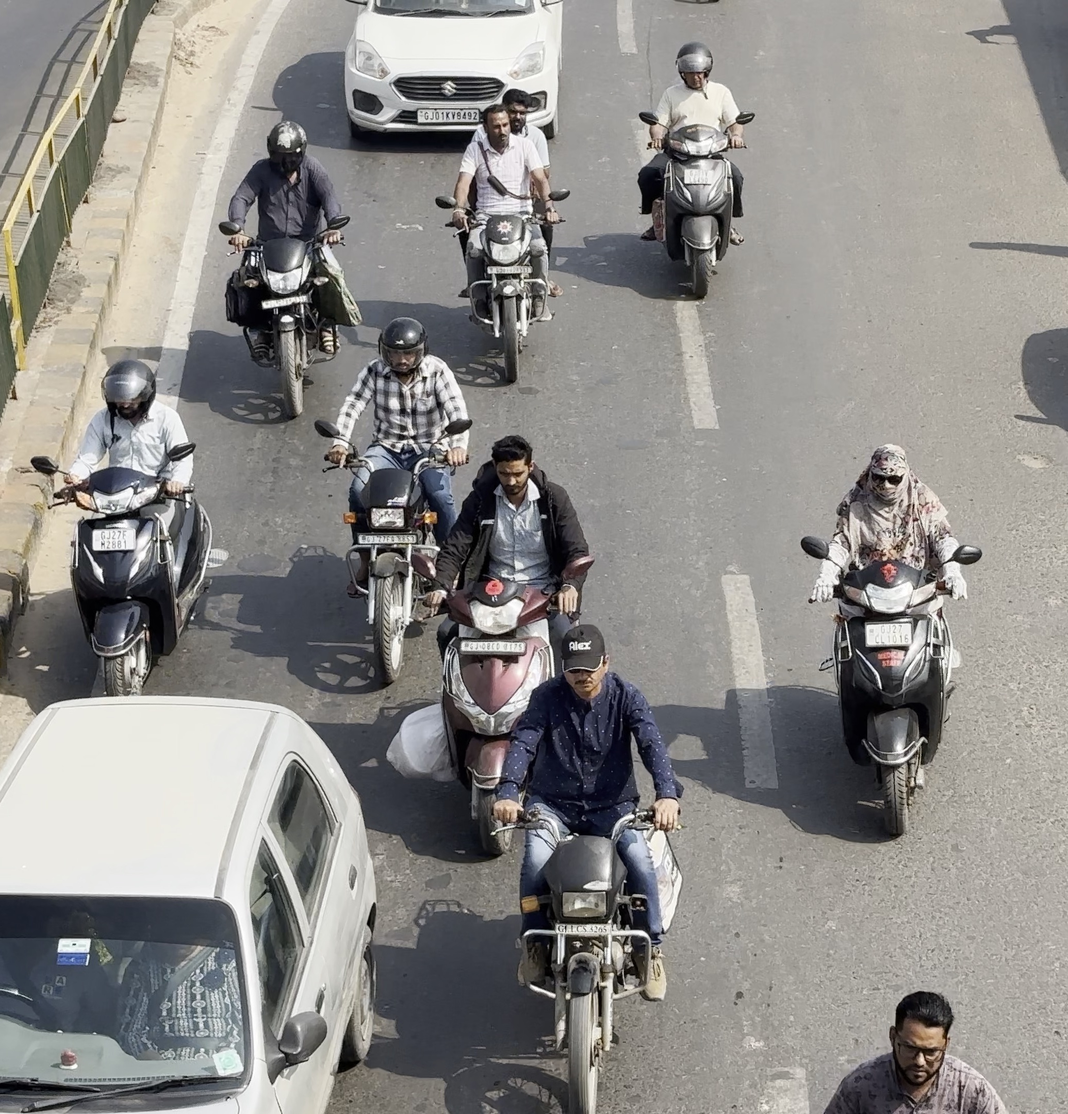BikeWithRider: (486, 613, 693, 1113), (402, 428, 603, 864), (793, 434, 992, 845), (19, 347, 233, 707), (309, 308, 481, 691), (208, 110, 371, 428), (428, 88, 577, 389), (626, 33, 763, 308)
Helmet: (91, 349, 167, 425), (369, 308, 436, 381), (256, 112, 317, 176), (667, 35, 723, 95)
NoHelmet: (877, 983, 966, 1091), (549, 616, 618, 707), (477, 431, 545, 503), (852, 437, 918, 511), (471, 96, 522, 151)
